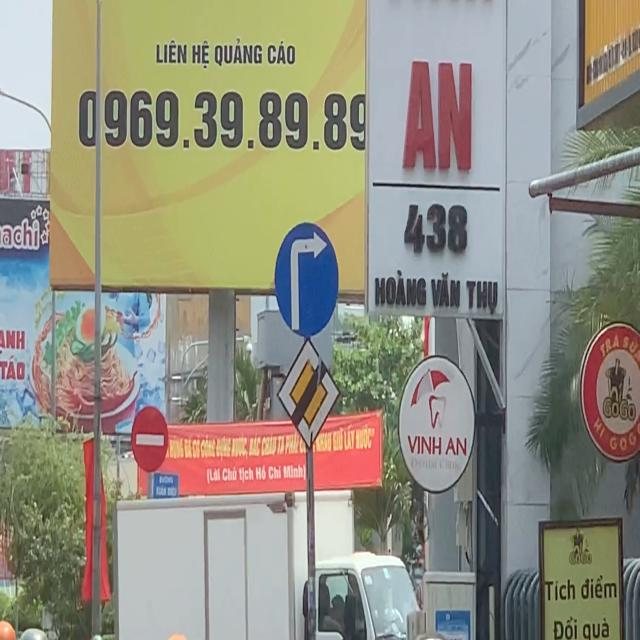Cam nguoc chieu: (129, 404, 170, 476)
Re phai: (276, 218, 340, 344)
